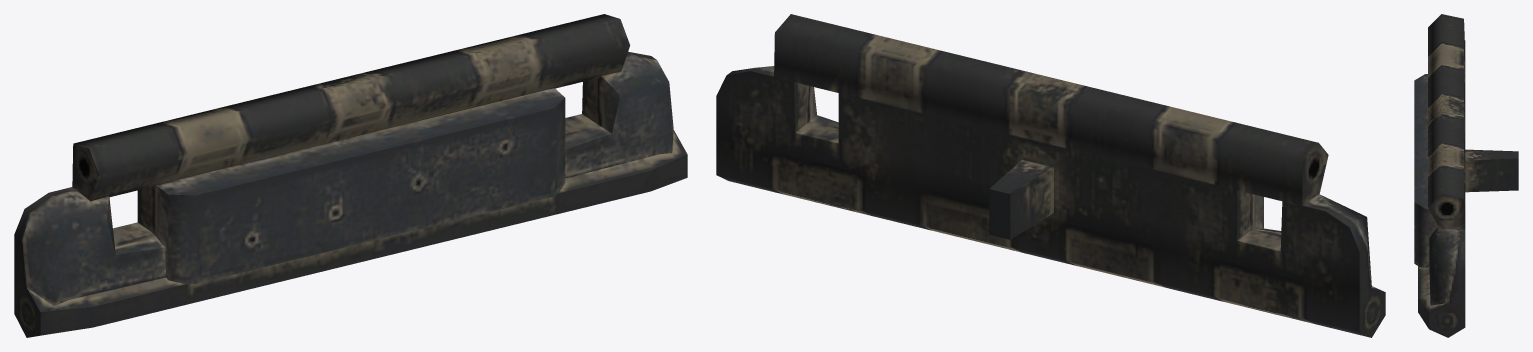
3 renders of one model, left to right at view 1: azimuth 30°, elevation 25°; view 2: azimuth 150°, elevation 25°; view 3: azimuth 270°, elevation 25°, orthographic. The views are drawn at different scales.
Parts seen in each view (by area): view 1: set_0_group_0; view 2: set_0_group_0; view 3: set_0_group_0.
Part boxes in pixels (x1,y1,x2,y2): set_0_group_0: (14,14,687,337); set_0_group_0: (716,14,1385,337); set_0_group_0: (1414,14,1518,337).
Size of the model in its own units: 0.67 by 0.1769 by 0.135.
1 material, 1 textured.
